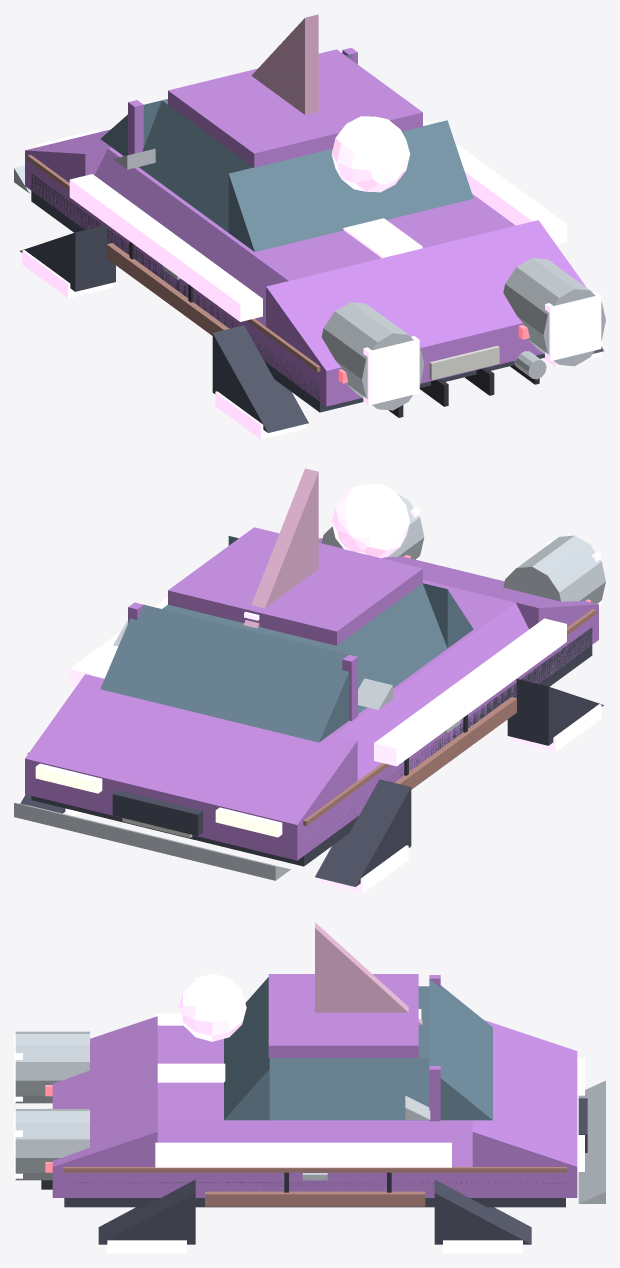
Rendered from zero_g_zipper.glb.
The picture shows the model from 3 angles, top to bottom: view 1: azimuth 30°, elevation 25°; view 2: azimuth 150°, elevation 25°; view 3: azimuth 270°, elevation 25°; orthographic projection. The views are drawn at different scales.
Visible parts, largest first — view 1: Tail.112, RearWindow.212, Roof.312, Body.312, BodyUpper.109, FloatFin-1.054, CabinSideL.109, ShoulderL.109, HoverPodWheel_RL.054, EnergyCore.054, Thruster-1.054, Thruster1.054 (+16 smaller); view 2: Nose.109, Windshield.212, Roof.312, Body.312, FloatFin-1.054, ShoulderL.109, CabinSideL.109, HoverPodWheel_FL.054, BridgeFin.016, Thruster-1.054, EnergyCore.054, Sill.308 (+17 smaller); view 3: Nose.109, Body.312, Tail.112, Roof.312, CabinSideR.109, FloatFin1.054, ShoulderR.109, Windshield.212, BodyUpper.109, RearWindow.212, BridgeFin.016, Thruster-1.054 (+14 smaller).
Part boxes in pixels (x1=…): Tail.112: x1=266, y1=220, x2=586, y2=370; RearWindow.212: x1=228, y1=120, x2=473, y2=251; Roof.312: x1=168, y1=49, x2=422, y2=167; Body.312: x1=25, y1=150, x2=543, y2=406; BodyUpper.109: x1=108, y1=147, x2=515, y2=280; FloatFin-1.054: x1=69, y1=174, x2=262, y2=321; CabinSideL.109: x1=139, y1=100, x2=253, y2=232; ShoulderL.109: x1=94, y1=149, x2=288, y2=326; HoverPodWheel_RL.054: x1=212, y1=325, x2=308, y2=432; EnergyCore.054: x1=331, y1=116, x2=410, y2=192; Thruster-1.054: x1=321, y1=302, x2=424, y2=410; Thruster1.054: x1=503, y1=258, x2=605, y2=366; Nose.109: x1=25, y1=674, x2=357, y2=824; Windshield.212: x1=100, y1=604, x2=349, y2=742; Roof.312: x1=168, y1=527, x2=422, y2=645; Body.312: x1=25, y1=604, x2=598, y2=860; FloatFin-1.054: x1=374, y1=618, x2=566, y2=766; ShoulderL.109: x1=335, y1=603, x2=528, y2=780; CabinSideL.109: x1=331, y1=583, x2=447, y2=713; HoverPodWheel_FL.054: x1=315, y1=779, x2=411, y2=886; BridgeFin.016: x1=243, y1=468, x2=318, y2=628; Thruster-1.054: x1=503, y1=535, x2=605, y2=603; EnergyCore.054: x1=331, y1=484, x2=409, y2=558; Sill.308: x1=31, y1=627, x2=592, y2=866; Nose.109: x1=472, y1=1020, x2=577, y2=1166; Body.312: x1=52, y1=1167, x2=577, y2=1197; Tail.112: x1=52, y1=1016, x2=157, y2=1166; Roof.312: x1=268, y1=974, x2=418, y2=1057; CabinSideR.109: x1=269, y1=1058, x2=429, y2=1120; FloatFin1.054: x1=155, y1=1142, x2=451, y2=1167; ShoulderR.109: x1=157, y1=1122, x2=472, y2=1166; Windshield.212: x1=429, y1=979, x2=492, y2=1120; BodyUpper.109: x1=157, y1=1025, x2=472, y2=1122; RearWindow.212: x1=224, y1=977, x2=269, y2=1120; BridgeFin.016: x1=315, y1=922, x2=422, y2=1025; Thruster-1.054: x1=15, y1=1031, x2=89, y2=1103.
Bounding box in the file's own units: 3 × 2.48 × 5.19.
